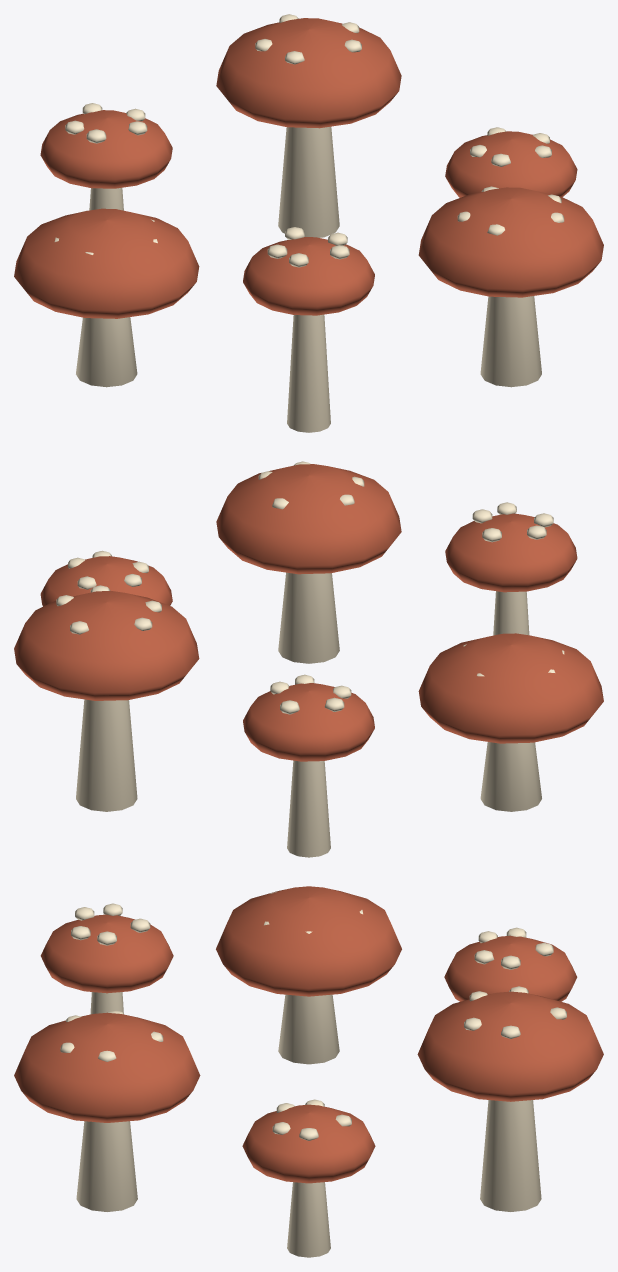
File: almanac-gardens-mushroom-ring-736bb000__22057.glb
3 renders of one model, top to bottom at view 1: azimuth 30°, elevation 25°; view 2: azimuth 150°, elevation 25°; view 3: azimuth 270°, elevation 25°, orthographic.
Visible parts, largest first — view 1: mushroom-ring-clay, mushroom-ring-ivory; view 2: mushroom-ring-clay, mushroom-ring-ivory; view 3: mushroom-ring-clay, mushroom-ring-ivory.
Boxes of the visible parts, bbox=[...] form: mushroom-ring-clay: bbox=[14, 18, 603, 318]; mushroom-ring-ivory: bbox=[54, 14, 564, 432]; mushroom-ring-clay: bbox=[14, 464, 603, 761]; mushroom-ring-ivory: bbox=[56, 461, 564, 857]; mushroom-ring-clay: bbox=[14, 886, 603, 1183]; mushroom-ring-ivory: bbox=[60, 891, 566, 1257].
Bounding box in the file's own units: 0.94 × 0.325 × 0.8862.
